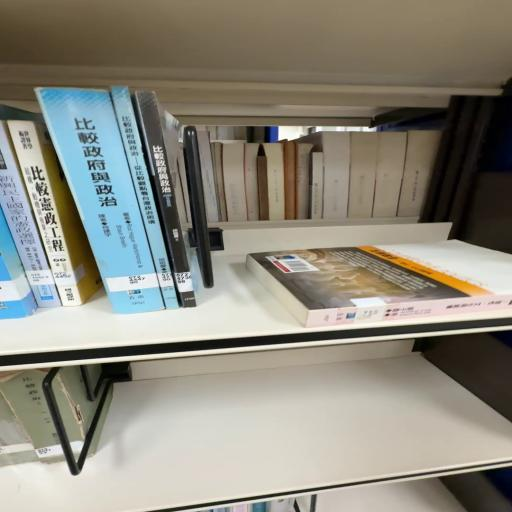flat: (248, 241, 512, 328)
